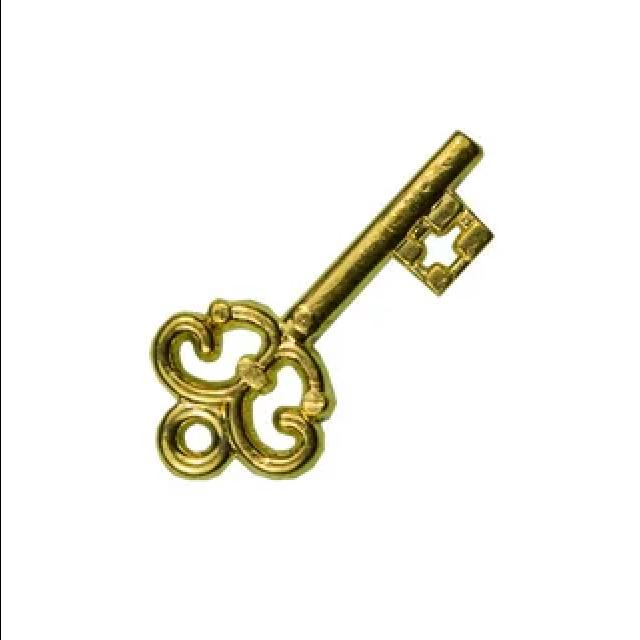key: (106, 118, 498, 492)
